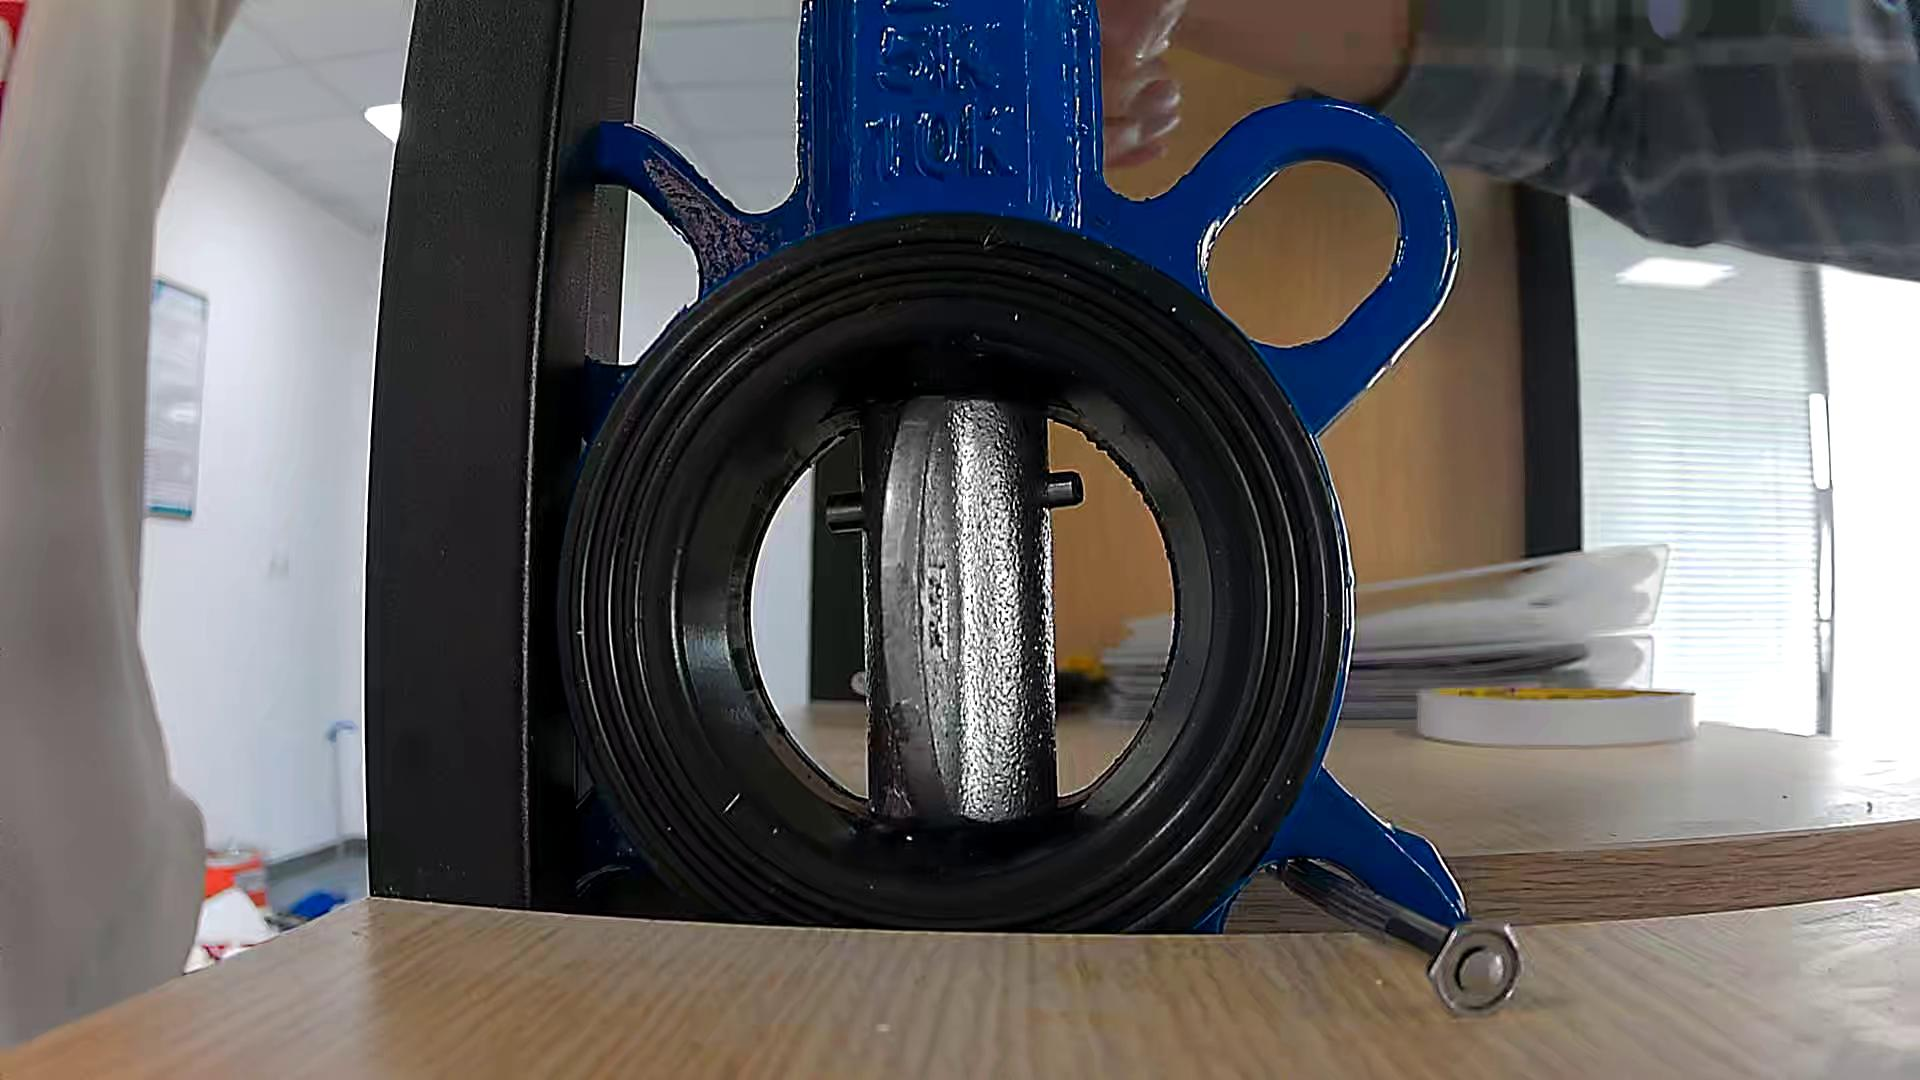valve: (862, 397, 1058, 822)
